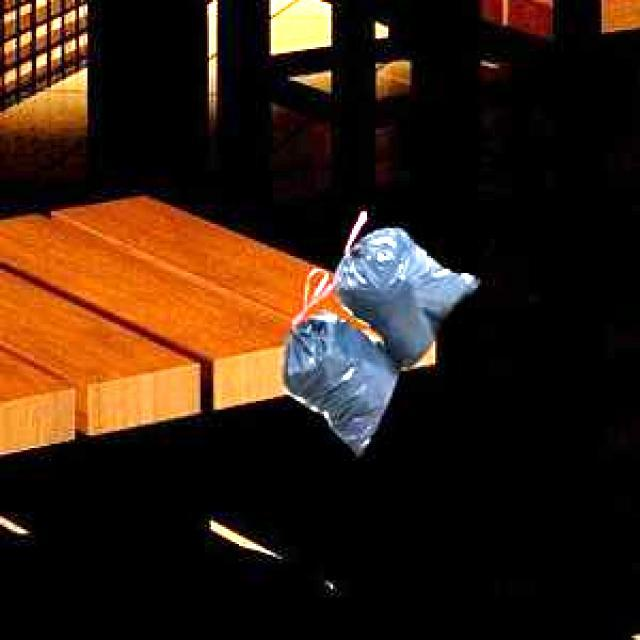Garbage_Bag: (280, 210, 477, 451)
